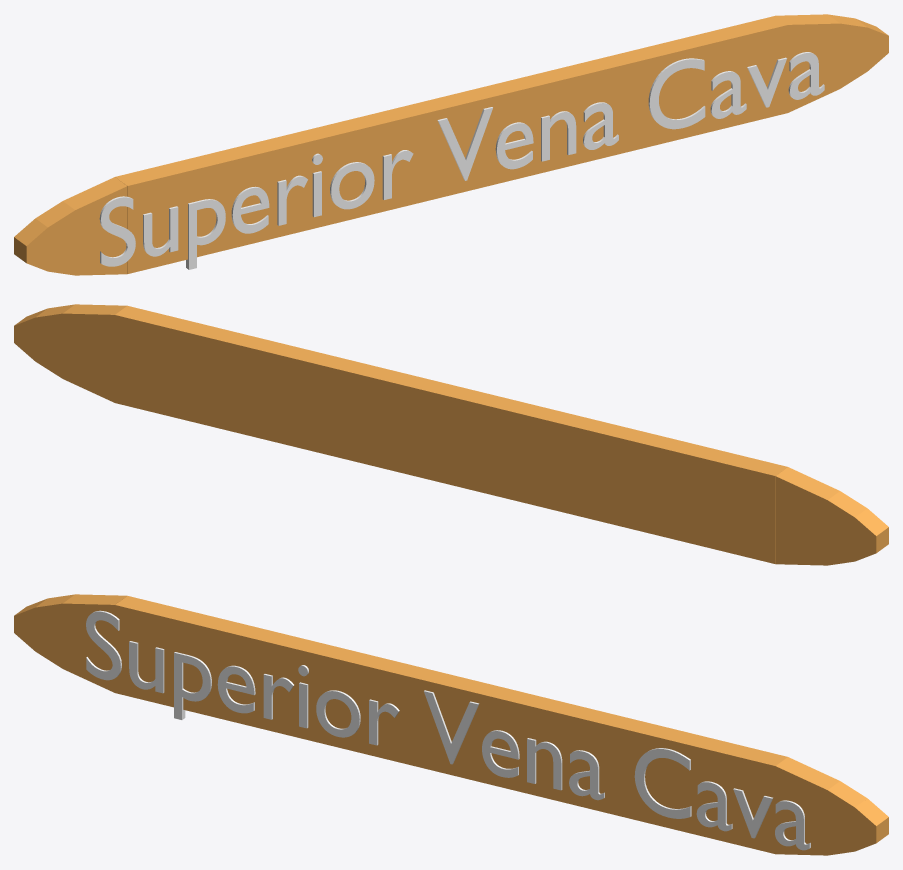
Rendered from txtSuperiorVenaCava.fbx.
The picture shows the model from 3 angles, top to bottom: view 1: azimuth 30°, elevation 25°; view 2: azimuth 150°, elevation 25°; view 3: azimuth 330°, elevation 25°; orthographic projection.
Visible parts, largest first — view 1: TagContainer.030, Text.029; view 2: TagContainer.030; view 3: TagContainer.030, Text.029.
Part boxes in pixels (box(x1,y1,x2,y2)): TagContainer.030: box(14, 14, 888, 275); Text.029: box(99, 52, 824, 269); TagContainer.030: box(14, 304, 888, 565); TagContainer.030: box(14, 594, 888, 855); Text.029: box(86, 610, 810, 850).
Bounding box in the file's own units: 423 × 45.81 × 11.71.
